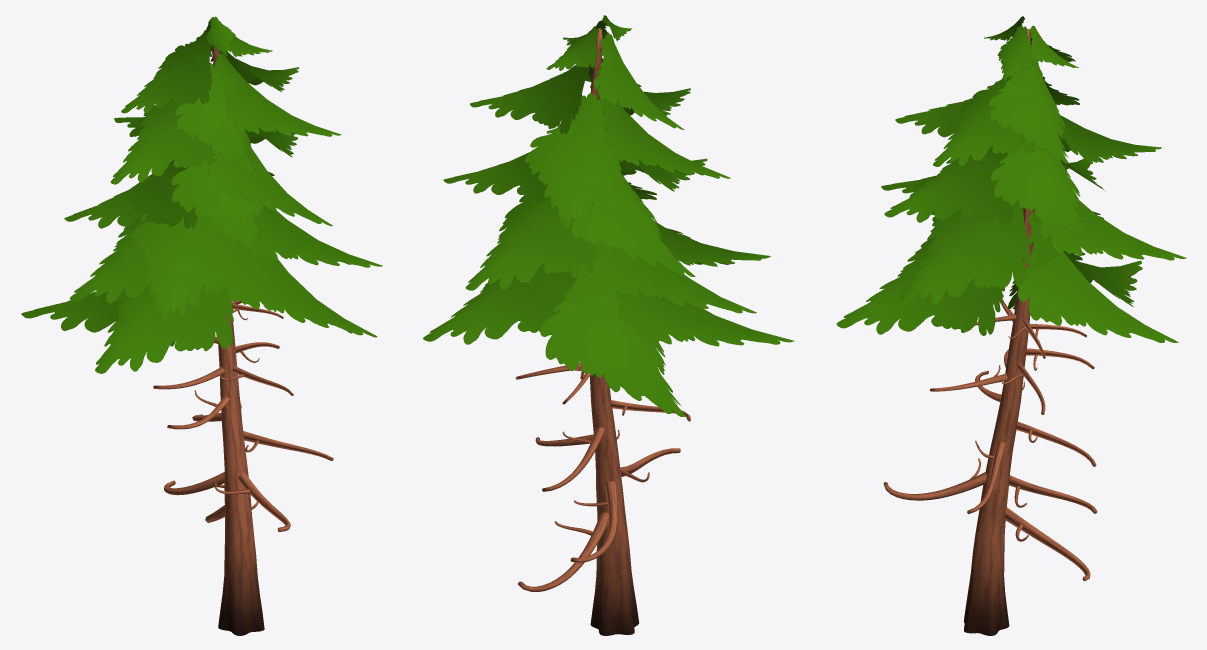
File: Pine_3.gltf
3 views of the same model, side by side, from view 1: azimuth 30°, elevation 25°; view 2: azimuth 150°, elevation 25°; view 3: azimuth 270°, elevation 25° (orthographic). The views are drawn at different scales.
Parts seen in each view (by area): view 1: Pine_3; view 2: Pine_3; view 3: Pine_3.
Boxes of the visible parts, x1,y1,x2,y2 form: Pine_3: (21, 16, 382, 635); Pine_3: (423, 15, 794, 635); Pine_3: (836, 16, 1186, 635).
Size of the model in its own units: 3.61 by 7.39 by 4.
2 materials, 2 textured.
